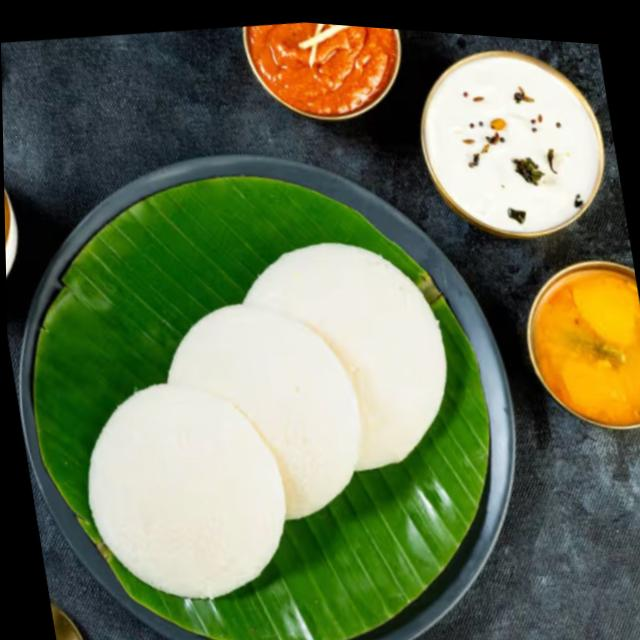IDLI: (83, 244, 445, 602)
RED CHUTNEY: (245, 24, 390, 114)
SAMBAR: (533, 270, 640, 428)
WHITE CHUTNEY: (422, 56, 596, 236)
